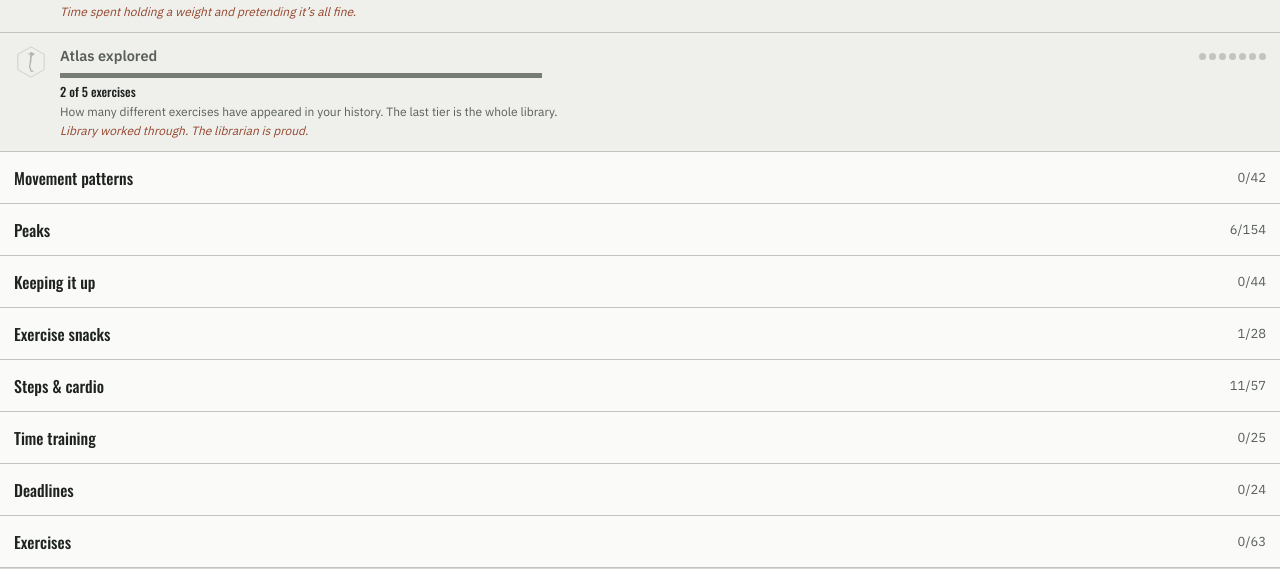
it: achievements in English › the achievements screen
The width and height of the screenshot is (1280, 569).
(page scrolled)
Click the button "Steps & cardio 11/57".
click(59, 386)  # box [0,360,1279,412]
(page scrolled)
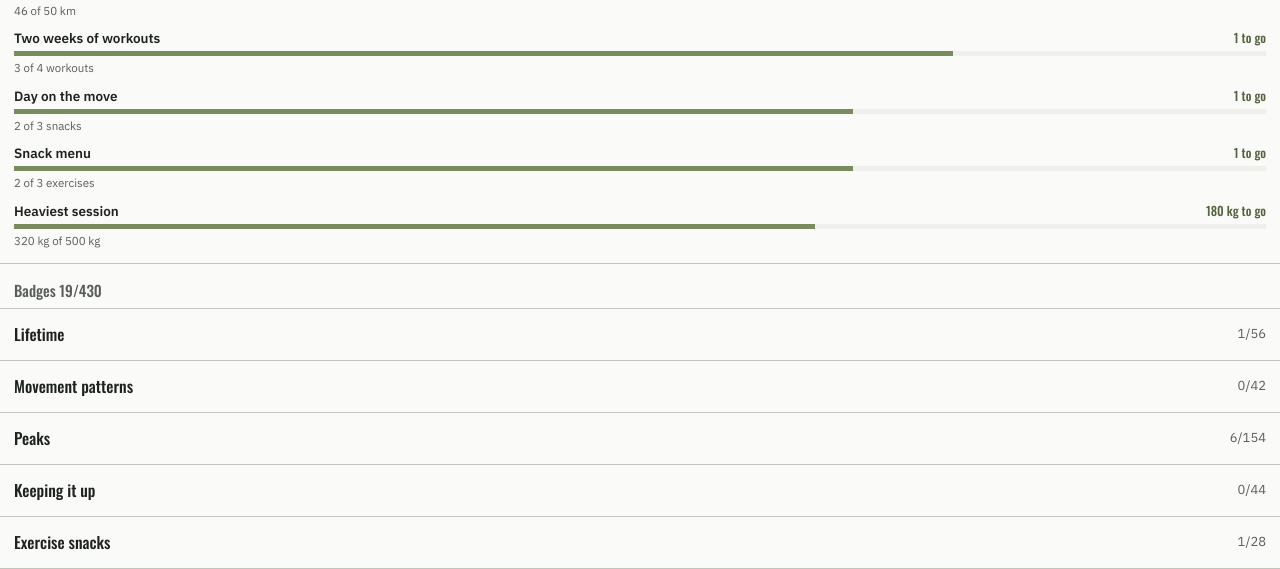
Click the button "Movement patterns 0/42".
click(74, 386)  # box [0,361,1279,413]
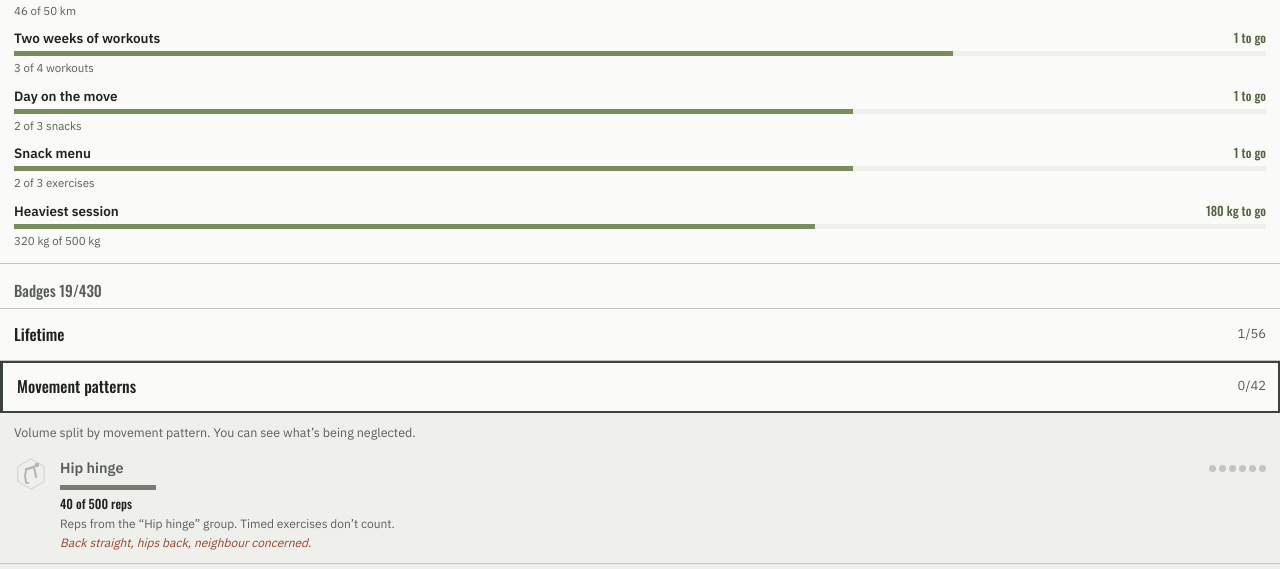
expect the text "Reps from the “Hip hinge” group. Timed exercises don’t count." is shown: met, box [60,516,395,531]
